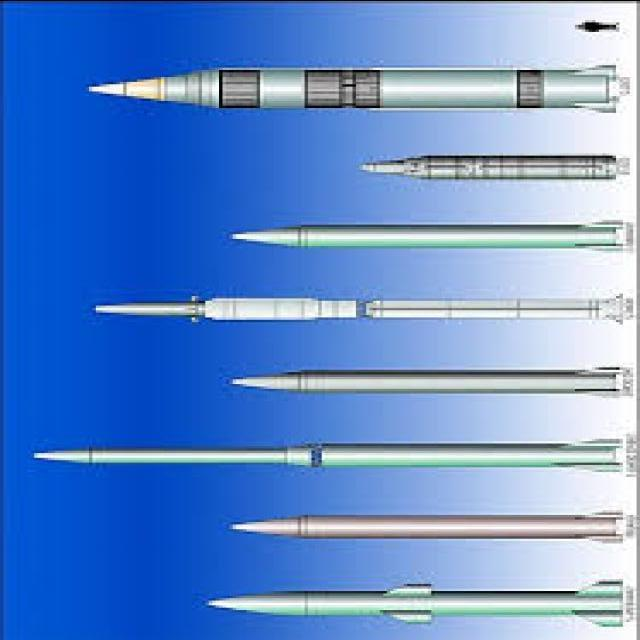missile: (85, 58, 629, 118), (70, 282, 638, 326), (24, 435, 631, 473), (191, 576, 638, 625), (193, 357, 640, 401), (210, 504, 636, 550), (223, 220, 636, 253)
